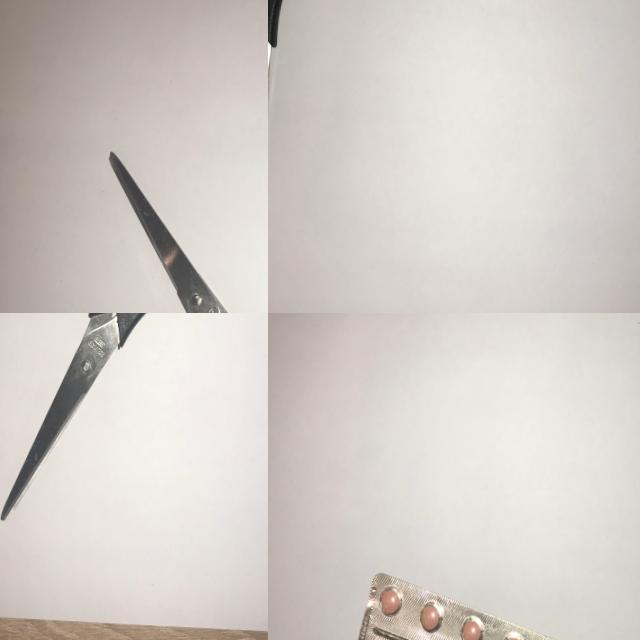scissors: (0, 313, 241, 544), (83, 136, 268, 313), (268, 0, 329, 284)
tablets: (332, 563, 596, 640)
